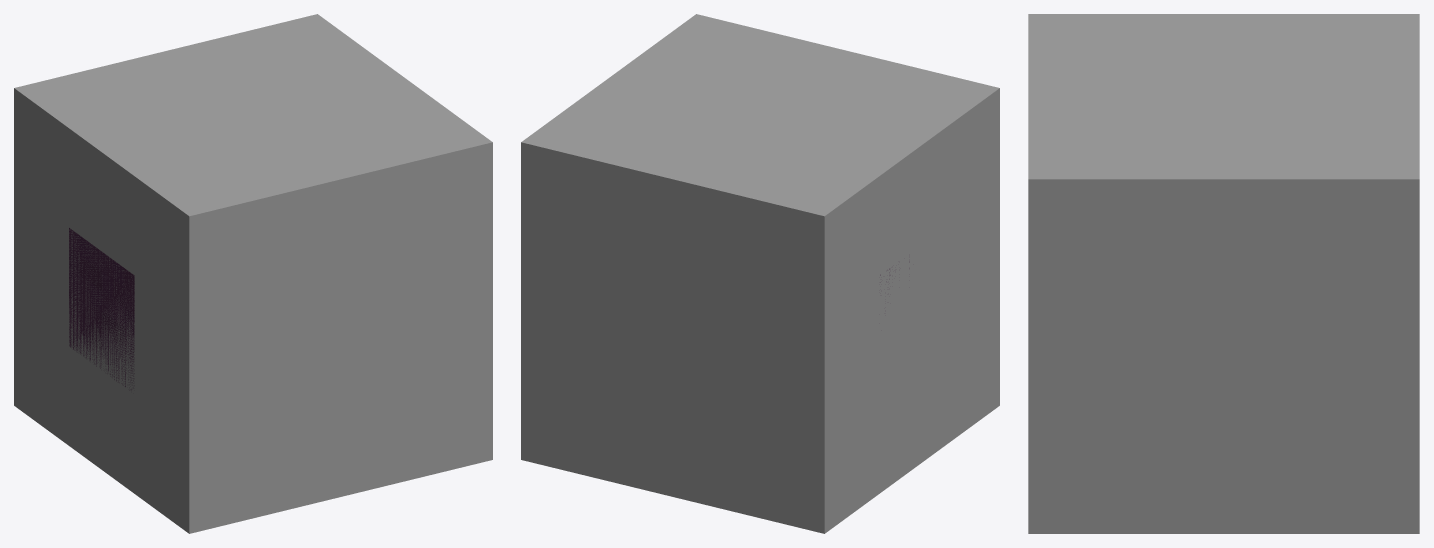
File: signalsource.obj
The picture shows the model from 3 angles, left to right: view 1: azimuth 30°, elevation 25°; view 2: azimuth 150°, elevation 25°; view 3: azimuth 270°, elevation 25°; orthographic projection. The views are drawn at different scales.
Parts seen in each view (by area): view 1: Minecraft_Block_Cube, Minecraft_2_Edge_Connectivity_Cube.002, main; view 2: Minecraft_Block_Cube, Minecraft_2_Edge_Connectivity_Cube.002; view 3: Minecraft_Block_Cube, Minecraft_2_Edge_Connectivity_Cube.002.
Boxes of the visible parts, x1=… form: Minecraft_Block_Cube: x1=15, y1=14, x2=492, y2=533; Minecraft_2_Edge_Connectivity_Cube.002: x1=14, y1=88, x2=253, y2=533; main: x1=69, y1=228, x2=134, y2=390; Minecraft_Block_Cube: x1=521, y1=14, x2=998, y2=533; Minecraft_2_Edge_Connectivity_Cube.002: x1=761, y1=88, x2=999, y2=533; Minecraft_Block_Cube: x1=1028, y1=14, x2=1419, y2=533; Minecraft_2_Edge_Connectivity_Cube.002: x1=1029, y1=14, x2=1418, y2=96.
Bounding box in the file's own units: 1 × 1 × 1.
2 materials, 1 textured.
